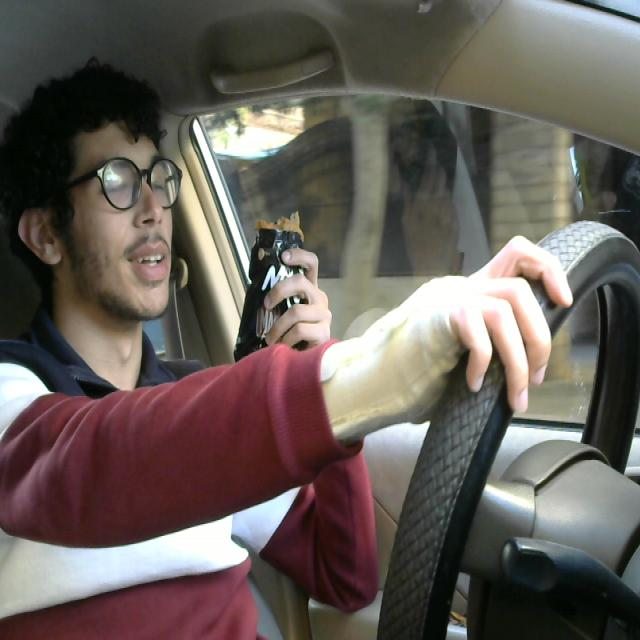eating: (216, 206, 321, 454)
